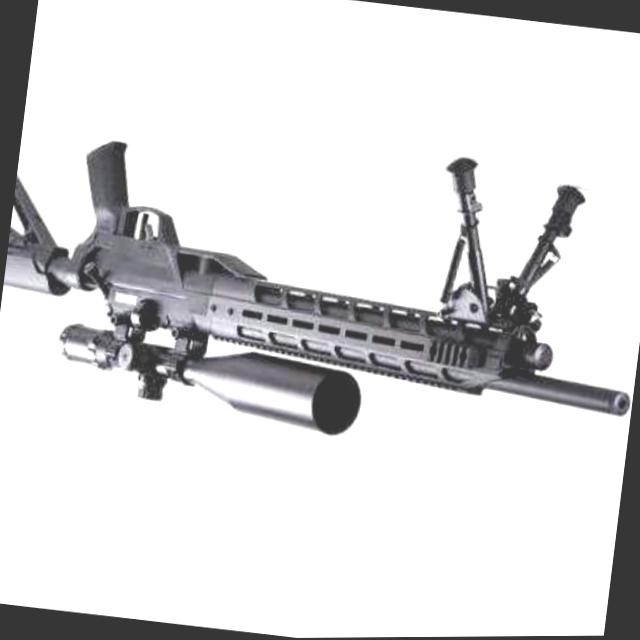rifle: (0, 47, 640, 471)
